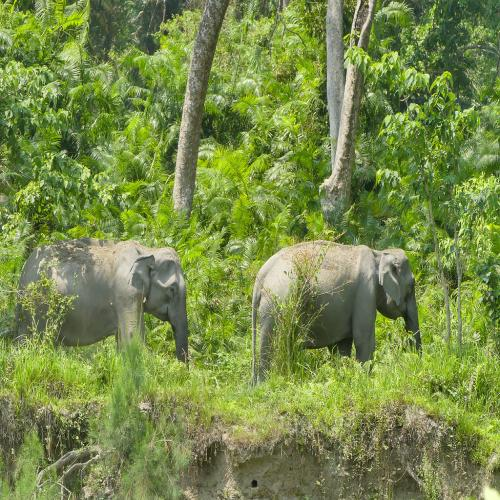asian_elephant-endangered: (244, 241, 423, 387), (15, 241, 188, 364)
